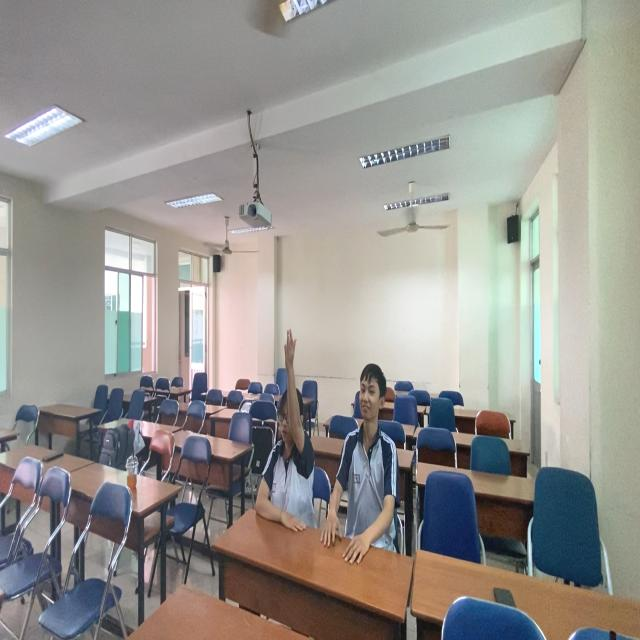raise_hand: (250, 323, 317, 539)
